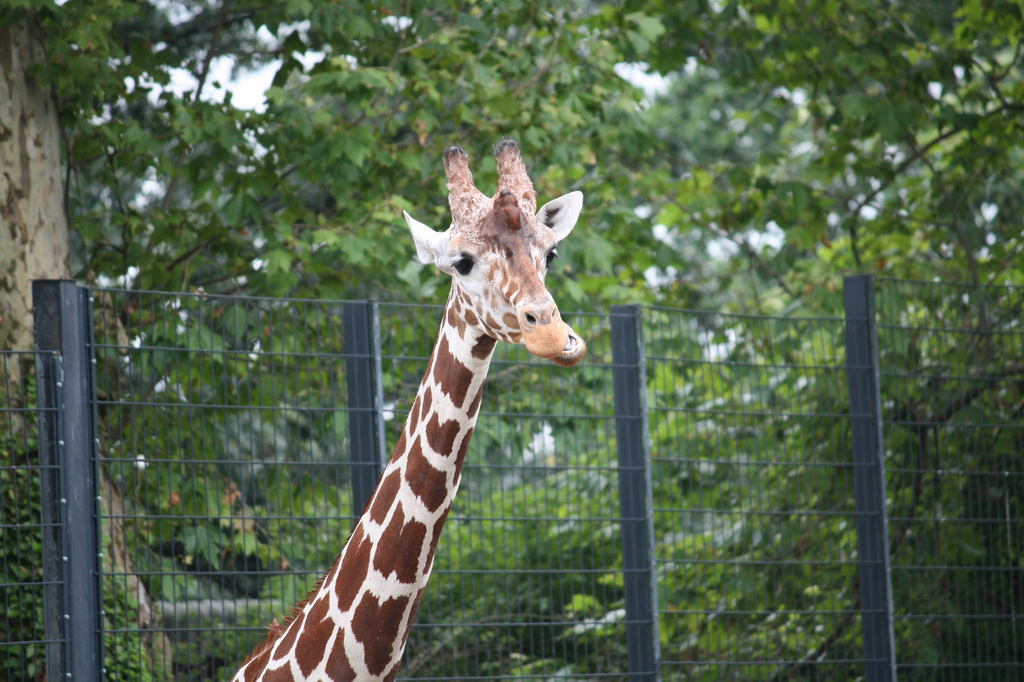giraffe: (293, 159, 602, 660)
